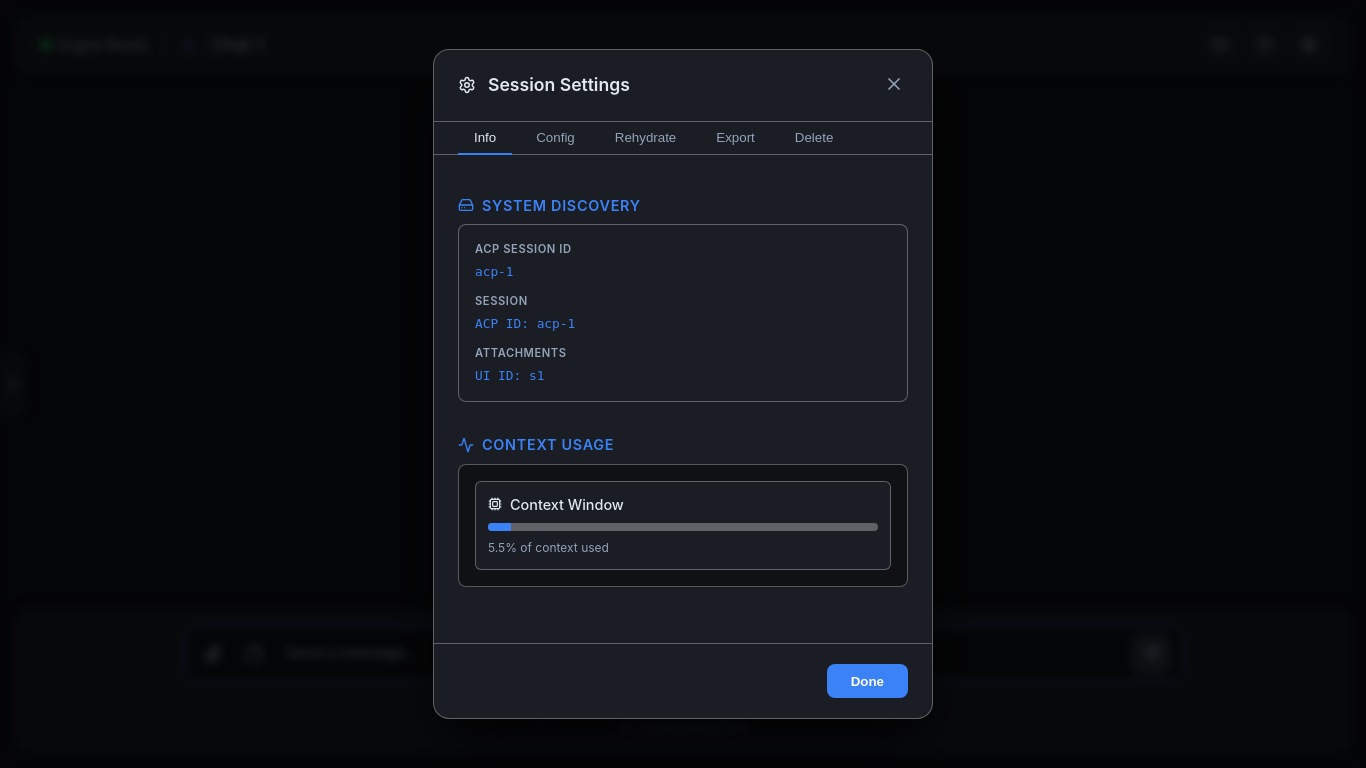
App Settings Modal › cancel delete hides confirmation
What coordinates should you click on to do the following:
click the button "Delete"
I would click on:
 (814, 138)
Its box is [779,122,849,154].
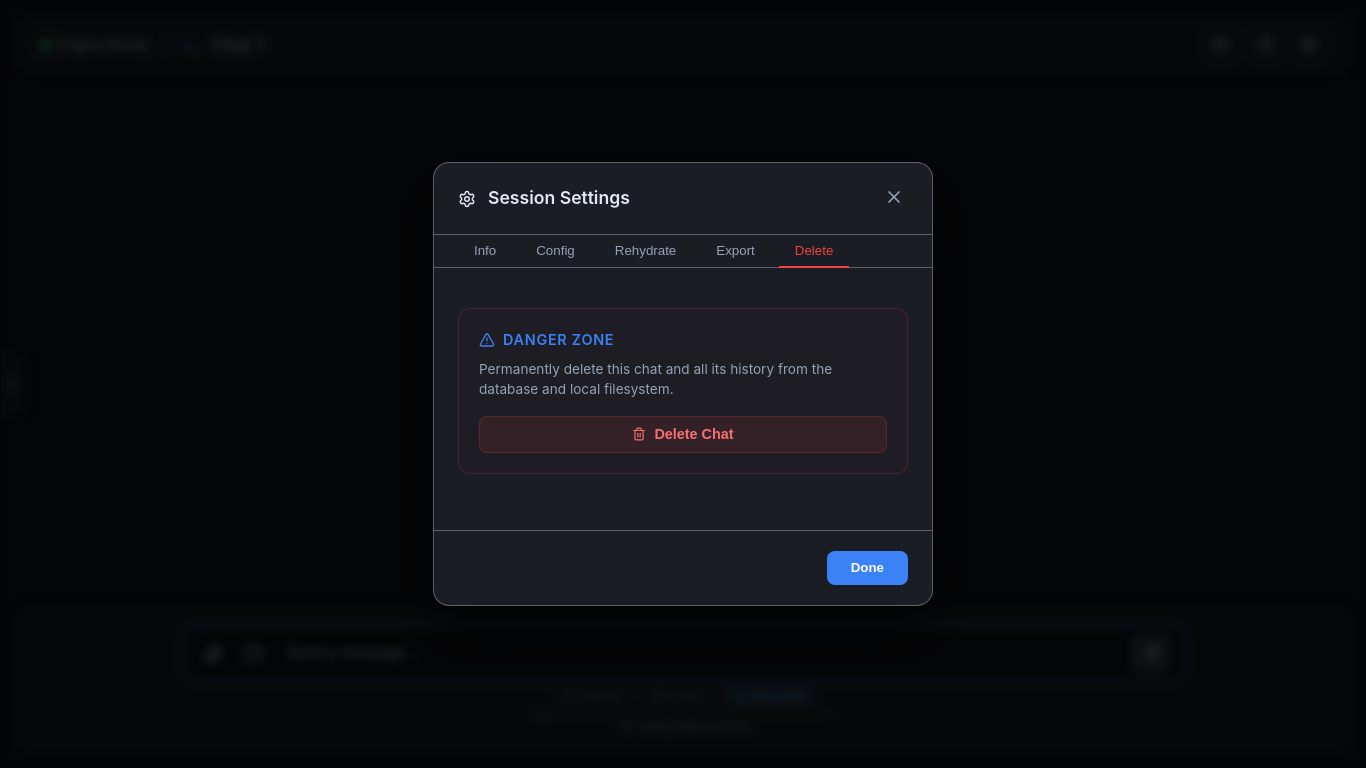
What coordinates should you click on to do the following:
click the button "Delete Chat"
I would click on:
 (683, 434)
Its box is [479,416,887,453].
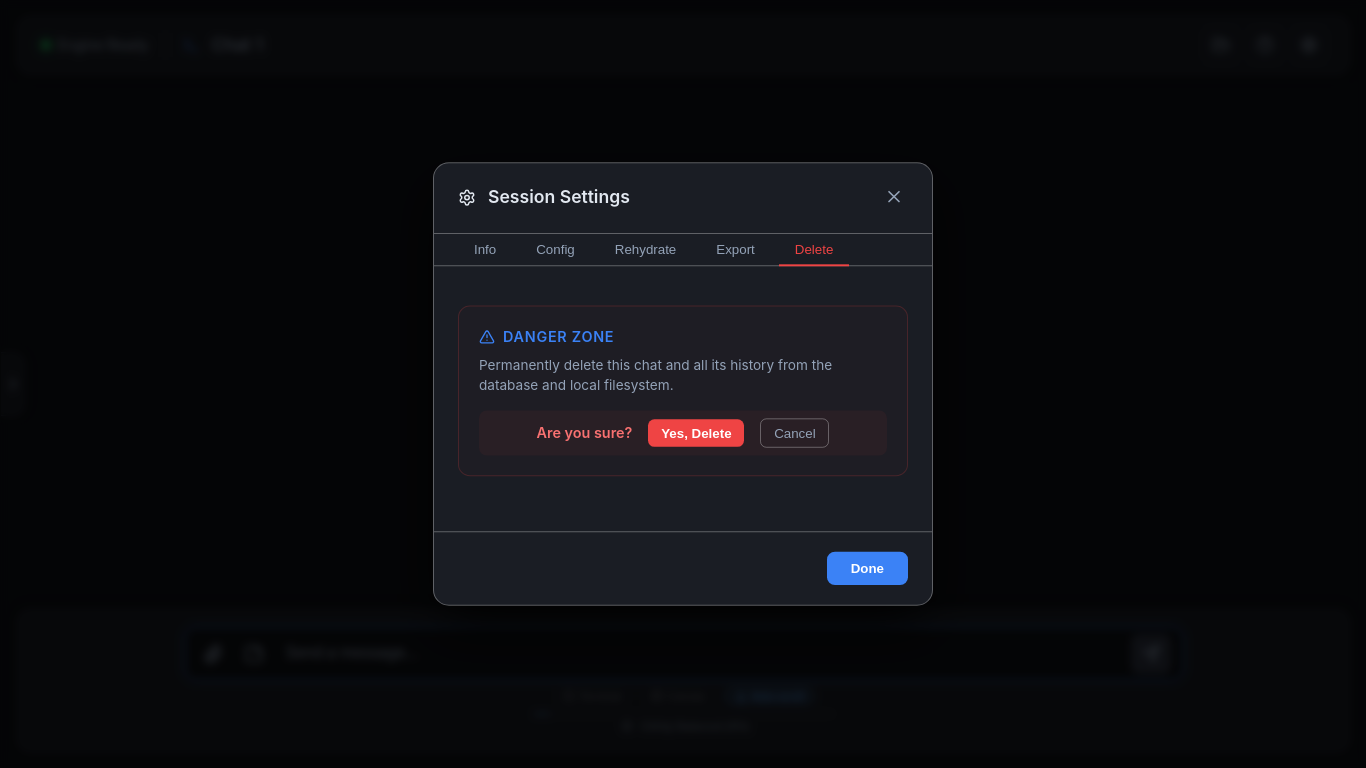
What coordinates should you click on to do the following:
click the button "Cancel"
I would click on:
 (795, 433)
Its box is [760,418,830,448].
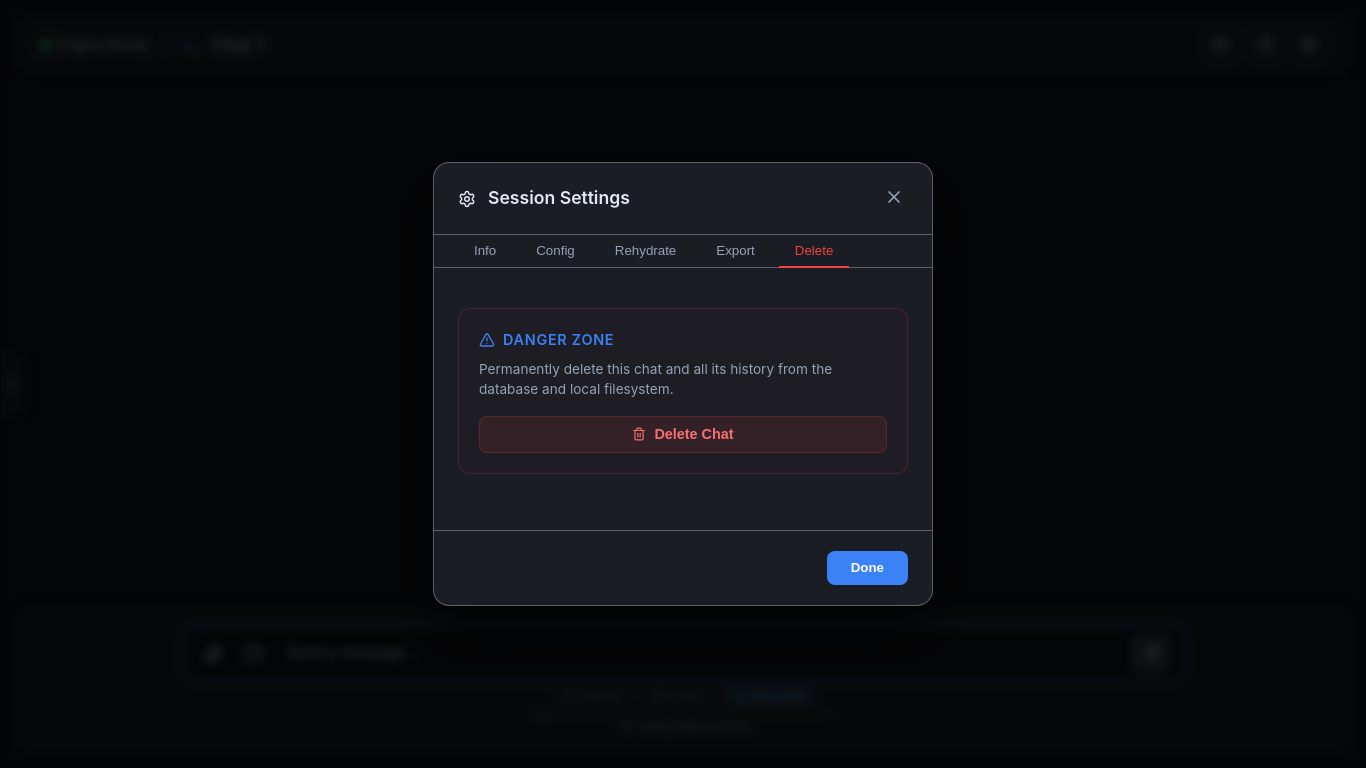
Check: the button "Delete Chat" is shown, box [479,416,887,453]
